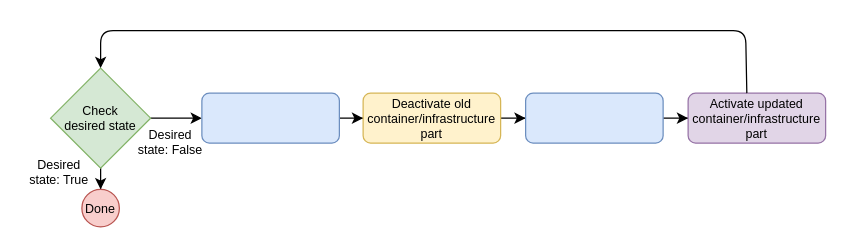
Image size: 848x249. Some labels were removed from this diagram. Here are the shapes that lost their labels. From the top down, the centre of each, then its label:
point 270,117: Select old container/infrastructure part
point 593,117: Create updated container/infrastructure part
